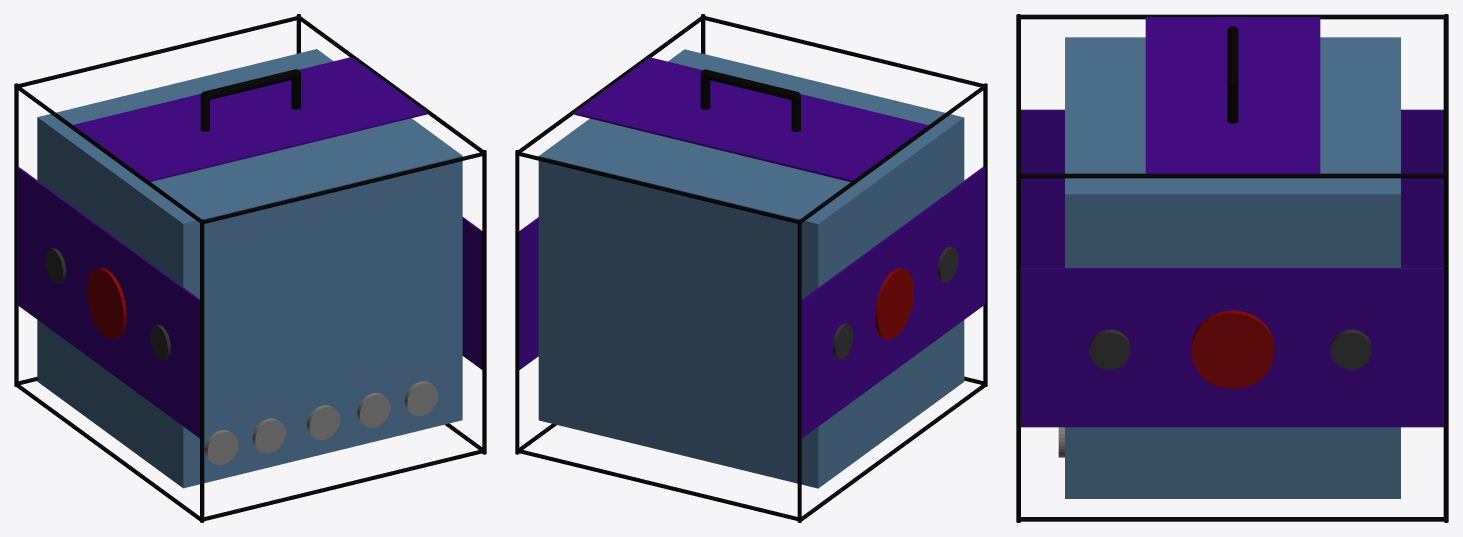
Rendered from Generador de energia.fbx.
3 views of the same model, side by side, from view 1: azimuth 30°, elevation 25°; view 2: azimuth 150°, elevation 25°; view 3: azimuth 270°, elevation 25° (orthographic). The views are drawn at different scales.
Parts seen in each view (by area): view 1: Cubo.016, Cubo.018, Cubo.019, Cilindro.006, Cubo.017, Cilindro.020, Cilindro.003, Cilindro.019, Cilindro.016, Cilindro.015, Cilindro.017, Cilindro.018 (+2 smaller); view 2: Cubo.016, Cubo.018, Cubo.019, Cilindro.006, Cubo.017, Cilindro.020, Cilindro.003, Cilindro.021, Cilindro.022; view 3: Cubo.016, Cubo.017, Cubo.019, Cubo.018, Cilindro.006, Cilindro, Cilindro.014, Cilindro.013, Cilindro.003.
Boxes of the visible parts, x1=… form: Cubo.016: x1=37, y1=49, x2=462, y2=488; Cubo.018: x1=17, y1=166, x2=199, y2=438; Cubo.019: x1=73, y1=57, x2=427, y2=181; Cilindro.006: x1=14, y1=14, x2=486, y2=522; Cubo.017: x1=462, y1=217, x2=482, y2=369; Cilindro.020: x1=87, y1=268, x2=126, y2=339; Cilindro.003: x1=200, y1=69, x2=300, y2=131; Cilindro.019: x1=252, y1=418, x2=285, y2=453; Cilindro.016: x1=357, y1=392, x2=390, y2=427; Cilindro.015: x1=307, y1=405, x2=340, y2=439; Cilindro.017: x1=404, y1=381, x2=437, y2=416; Cilindro.018: x1=205, y1=430, x2=238, y2=464; Cubo.016: x1=538, y1=49, x2=964, y2=488; Cubo.018: x1=801, y1=166, x2=984, y2=438; Cubo.019: x1=574, y1=57, x2=928, y2=181; Cilindro.006: x1=515, y1=14, x2=987, y2=522; Cubo.017: x1=519, y1=217, x2=538, y2=369; Cilindro.020: x1=874, y1=268, x2=913, y2=339; Cilindro.003: x1=700, y1=69, x2=800, y2=131; Cilindro.021: x1=832, y1=323, x2=853, y2=359; Cilindro.022: x1=937, y1=247, x2=958, y2=282; Cubo.016: x1=1065, y1=37, x2=1400, y2=498; Cubo.017: x1=1020, y1=268, x2=1444, y2=427; Cubo.019: x1=1145, y1=17, x2=1320, y2=173; Cubo.018: x1=1021, y1=109, x2=1443, y2=267; Cilindro.006: x1=1016, y1=14, x2=1448, y2=522; Cilindro: x1=1191, y1=310, x2=1274, y2=388; Cilindro.014: x1=1089, y1=329, x2=1130, y2=369; Cilindro.013: x1=1330, y1=329, x2=1371, y2=369; Cilindro.003: x1=1227, y1=26, x2=1238, y2=123.
Size of the model in its own units: 495 by 446 by 494.
